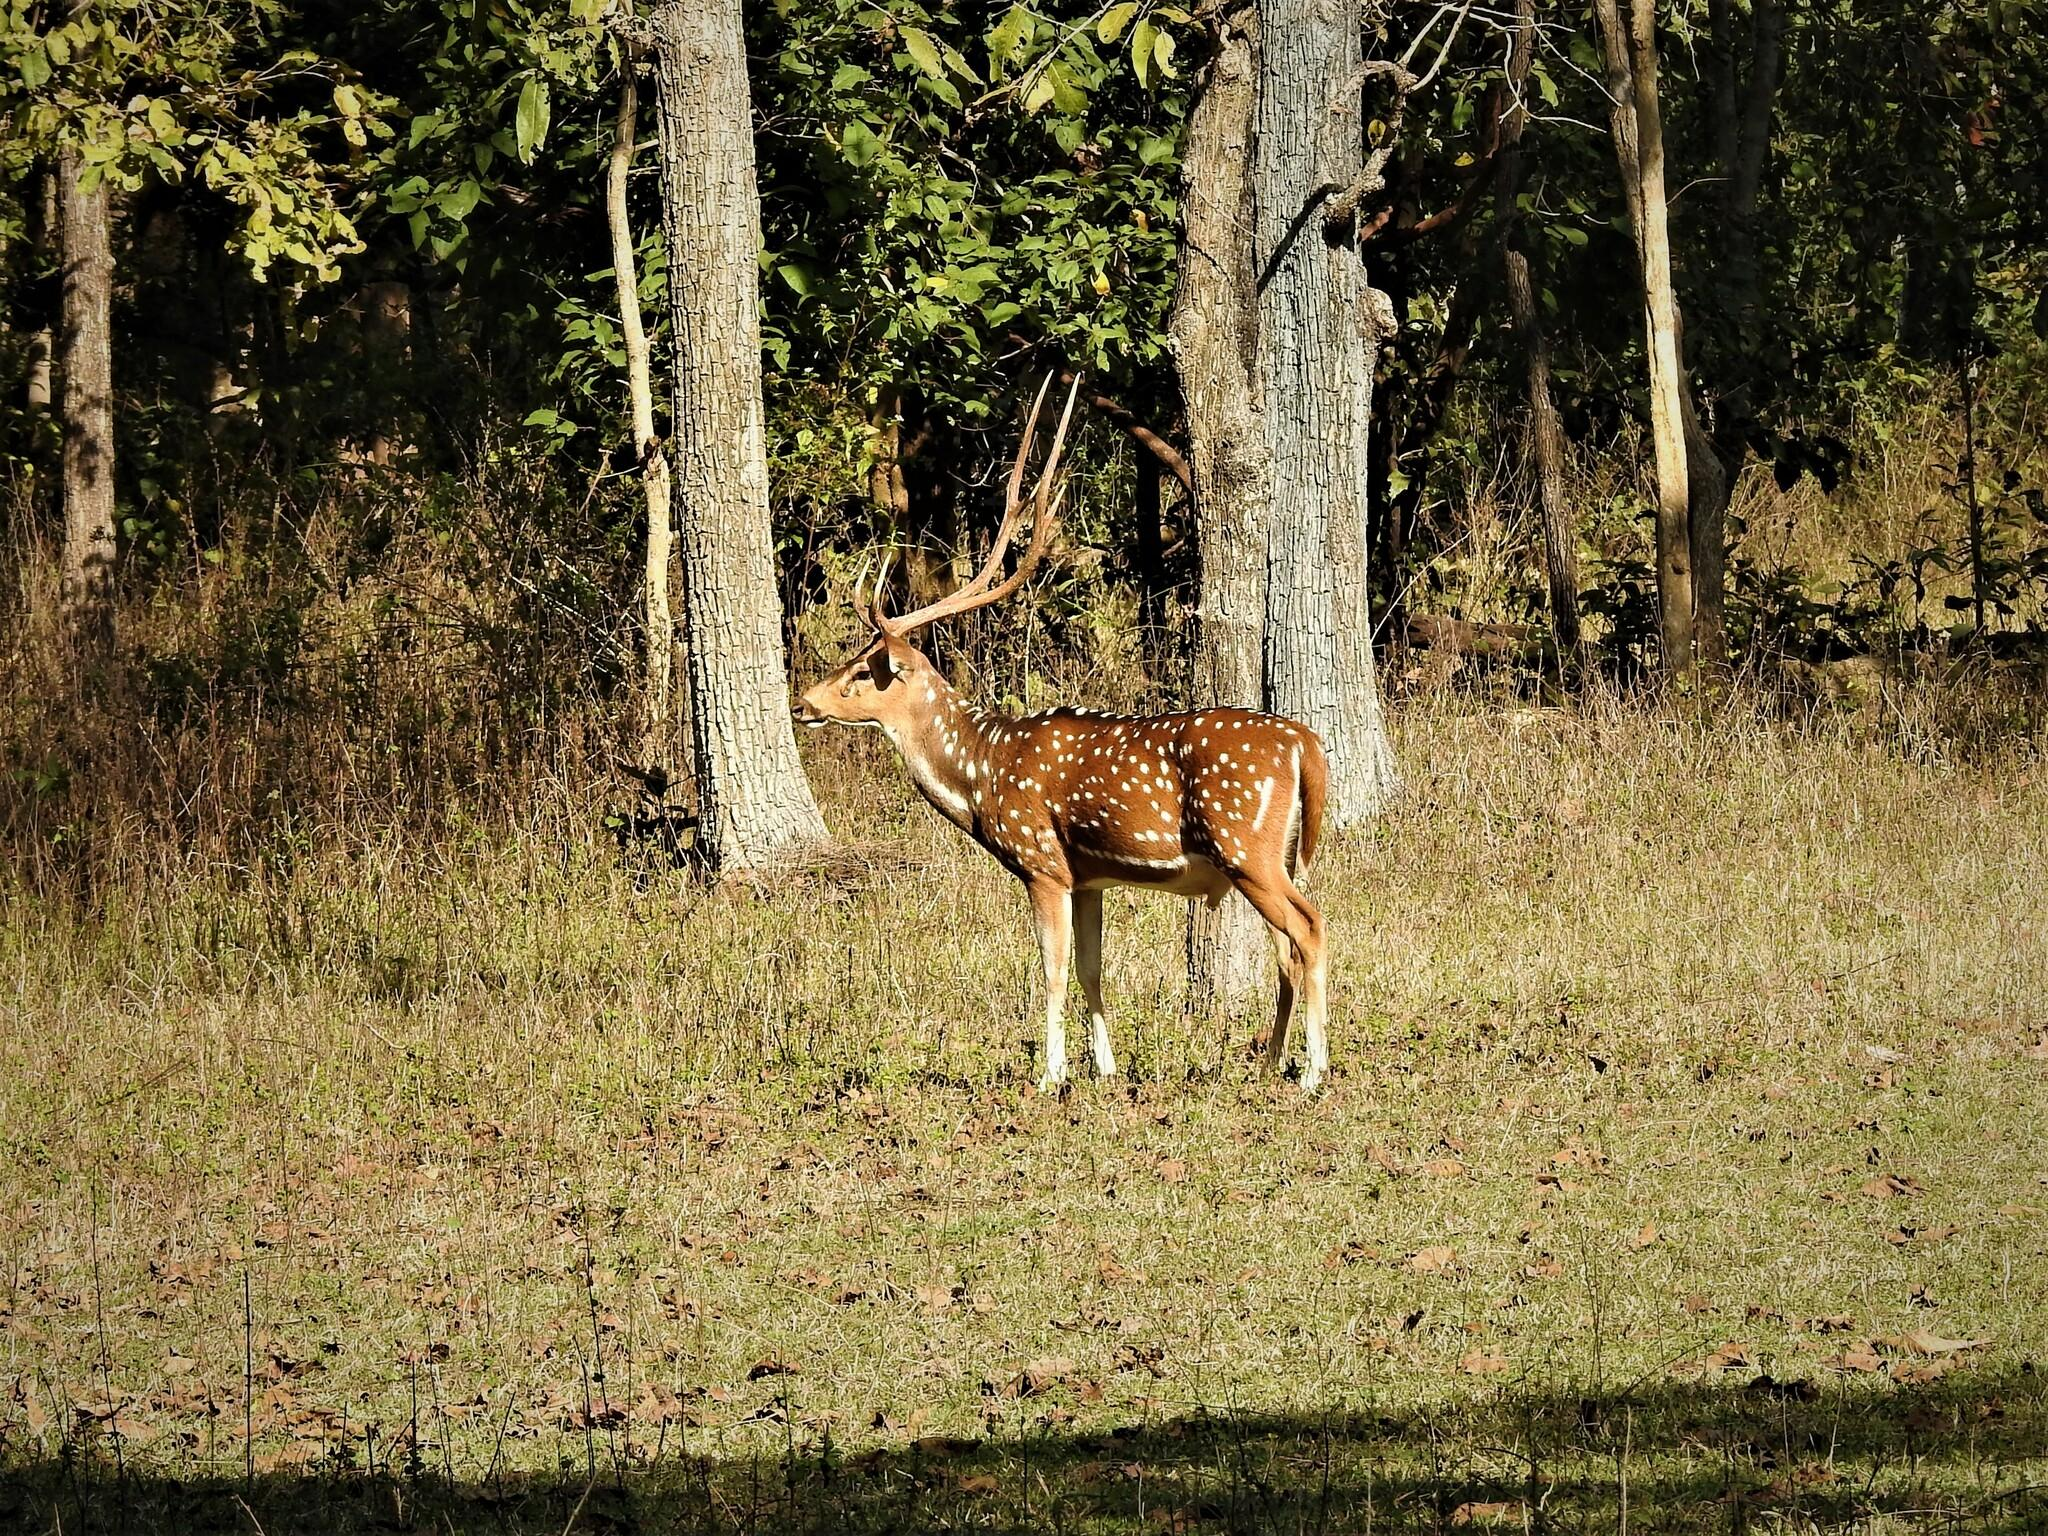Deer: (793, 369, 1329, 1087)
